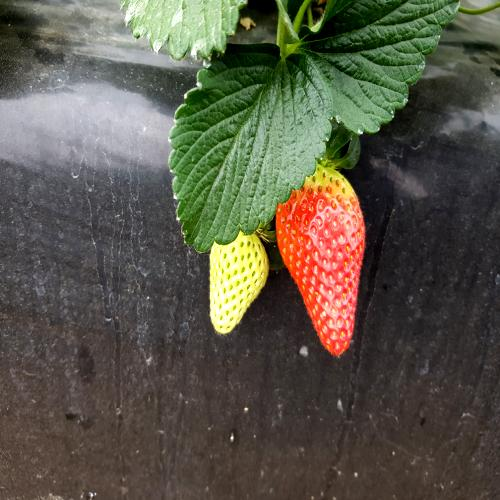ripe: (274, 140, 375, 384)
unripe: (199, 207, 268, 336)
